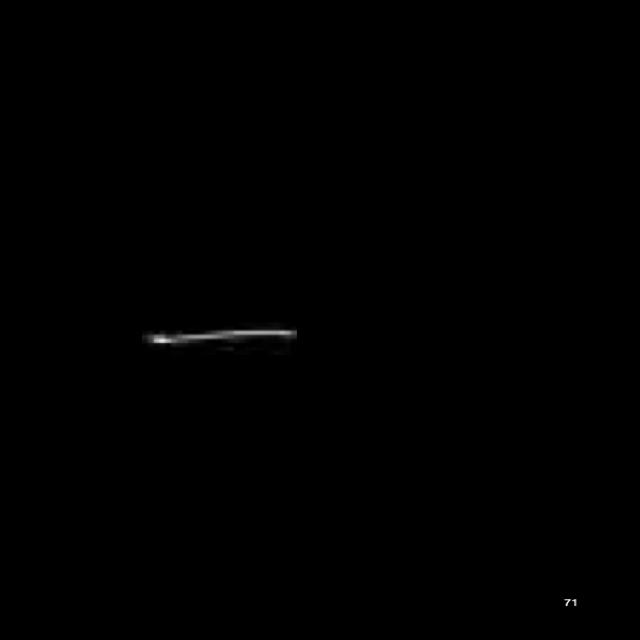1 -one-: (134, 316, 307, 356)
